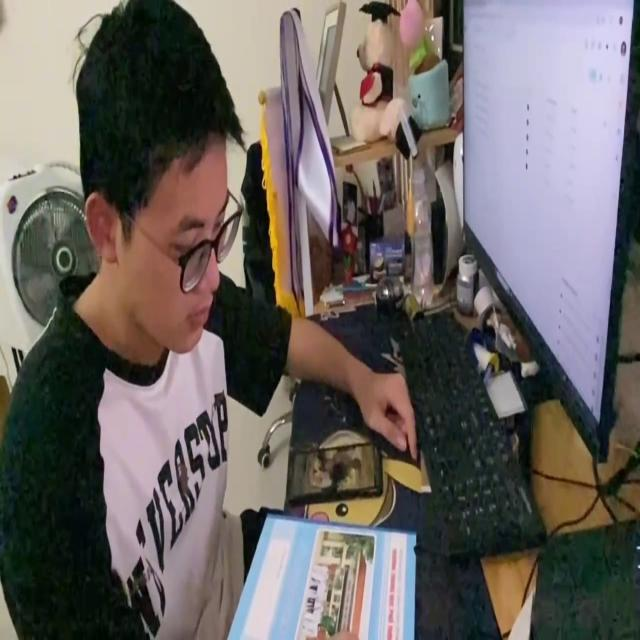book: (225, 508, 418, 640)
laptop: (459, 0, 640, 464)
phone: (287, 437, 383, 507)
student: (0, 0, 418, 640)
